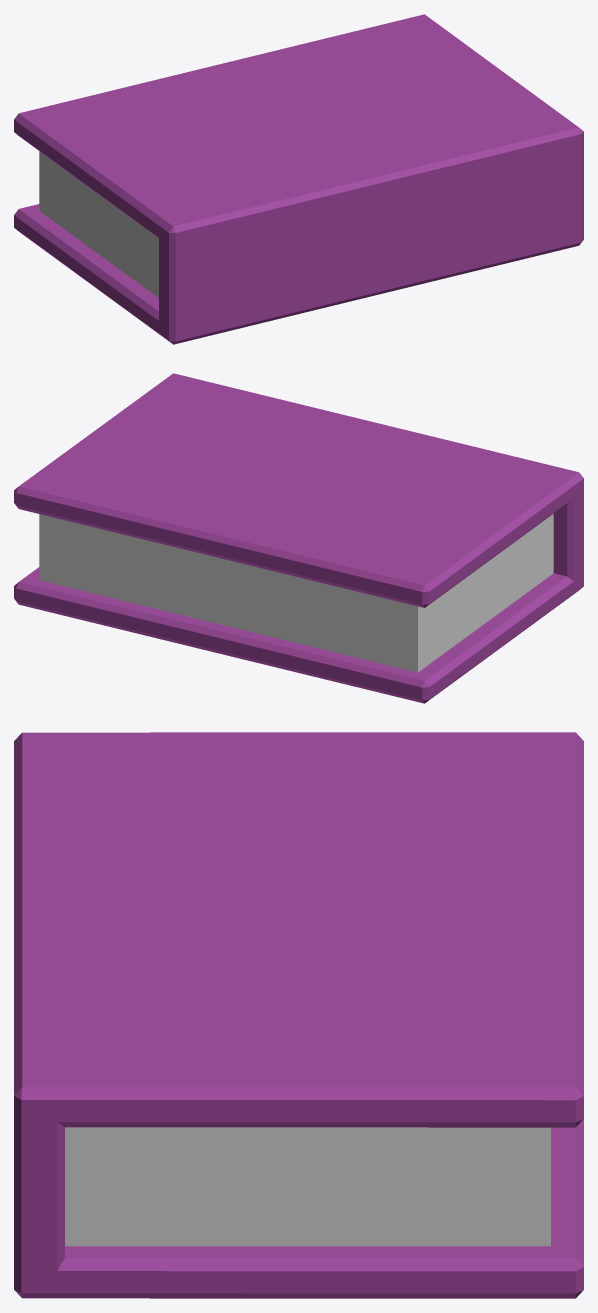
Rendered from purple_book.fbx.
3 renders of one model, top to bottom at view 1: azimuth 30°, elevation 25°; view 2: azimuth 150°, elevation 25°; view 3: azimuth 270°, elevation 25°, orthographic. The views are drawn at different scales.
Visible parts, largest first — view 1: Purple_book; view 2: Purple_book; view 3: Purple_book.
Boxes of the visible parts, x1,y1,x2,y2 form: Purple_book: [14, 14, 583, 344]; Purple_book: [14, 373, 583, 703]; Purple_book: [14, 732, 583, 1298].
Bounding box in the file's own units: 0.8917 × 0.5921 × 0.2425.
